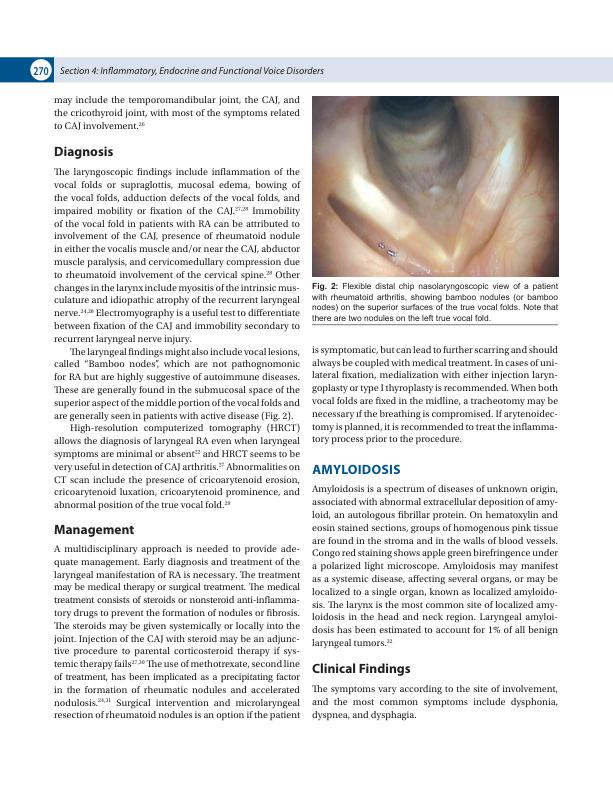caption: (311, 281, 559, 323)
header: (59, 66, 325, 77)
image: (311, 95, 560, 277)
section-heading: (311, 464, 402, 475)
sub-section-heading: (311, 662, 411, 677), (53, 524, 135, 538), (53, 145, 114, 160)
text: (53, 166, 301, 512), (53, 543, 302, 722), (311, 484, 559, 649), (311, 345, 558, 446), (311, 684, 558, 721), (53, 95, 301, 130)
